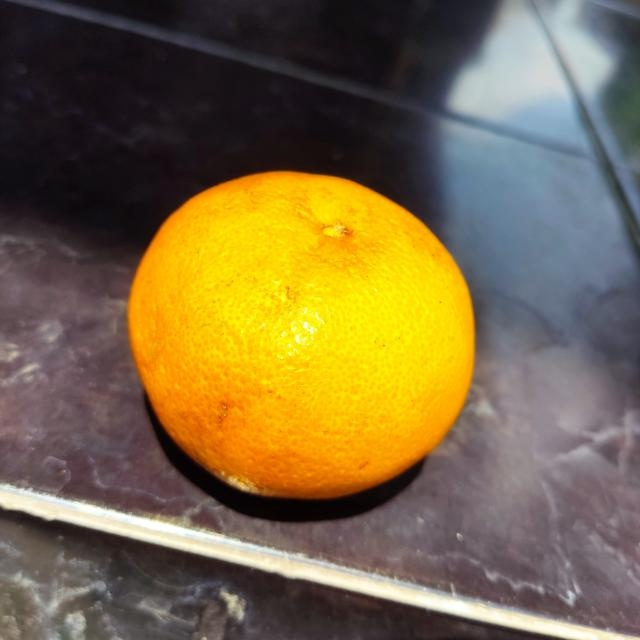agrume: (128, 165, 479, 499)
